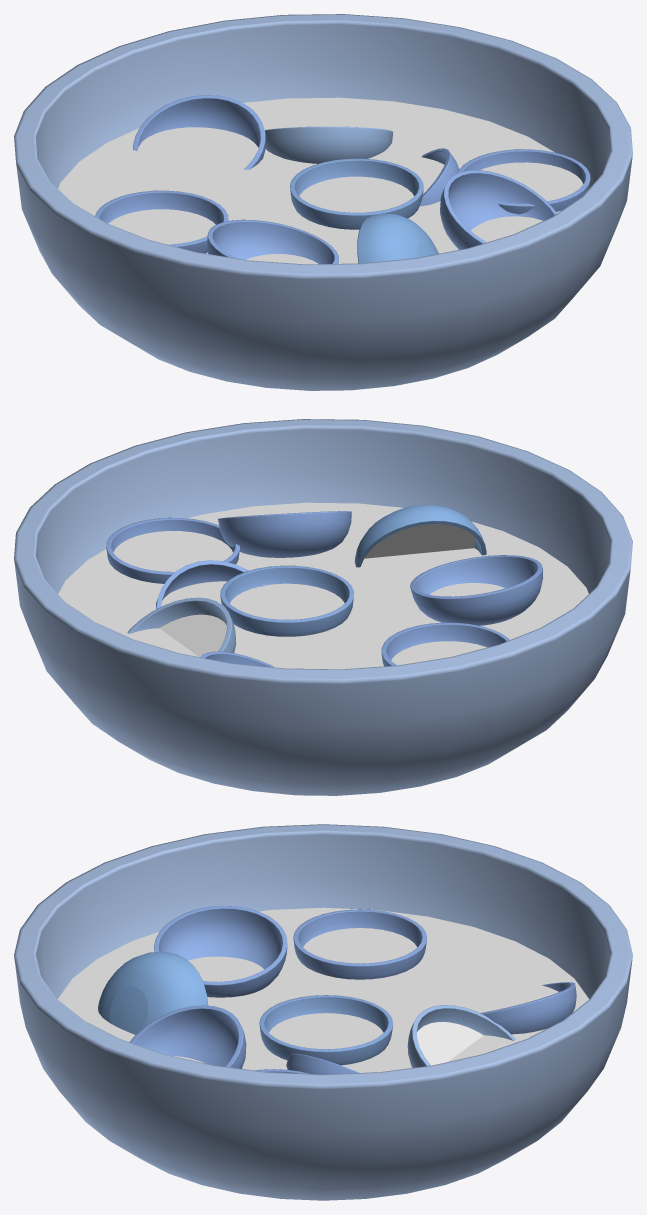
The model's file is bowlprefab.fbx.
The picture shows the model from 3 angles, top to bottom: view 1: azimuth 30°, elevation 25°; view 2: azimuth 150°, elevation 25°; view 3: azimuth 270°, elevation 25°; orthographic projection.
Parts seen in each view (by area): view 1: Sphere, Circle, Sphere.006, Sphere.004, Sphere.008, Sphere.005, Sphere.001, Circle.004, Sphere.002, Sphere.007, Sphere.003, Sphere.009; view 2: Sphere, Circle, Sphere.005, Sphere.006, Sphere.004, Circle.004, Sphere.003, Sphere.002, Sphere.007, Circle.002, Sphere.001, Circle.001 (+2 smaller); view 3: Sphere, Circle, Sphere.005, Sphere.002, Sphere.006, Sphere.007, Sphere.004, Circle.004, Sphere.008, Sphere.001, Circle.001, Sphere.009.
Boxes of the visible parts, box(x1,y1,x2,y2) form: Sphere: box(14, 14, 632, 390); Circle: box(58, 97, 583, 264); Sphere.006: box(440, 170, 556, 249); Sphere.004: box(290, 158, 423, 229); Sphere.008: box(133, 95, 265, 169); Sphere.005: box(207, 219, 338, 263); Sphere.001: box(265, 126, 393, 163); Circle.004: box(299, 176, 413, 212); Sphere.002: box(357, 213, 438, 263); Sphere.007: box(95, 190, 228, 253); Sphere.003: box(458, 149, 590, 214); Sphere.009: box(419, 148, 459, 206); Sphere: box(14, 419, 632, 795); Circle: box(58, 502, 588, 669); Sphere.005: box(410, 555, 543, 625); Sphere.006: box(218, 511, 351, 557); Sphere.004: box(220, 565, 354, 636); Circle.004: box(230, 583, 344, 619); Sphere.003: box(106, 517, 239, 583); Sphere.002: box(354, 504, 486, 567); Sphere.007: box(381, 622, 509, 666); Circle.002: box(364, 524, 475, 558); Sphere.001: box(127, 597, 236, 652); Circle.001: box(159, 614, 226, 656); Sphere: box(14, 824, 632, 1200); Circle: box(57, 907, 589, 1072); Sphere.005: box(154, 905, 287, 997); Sphere.002: box(98, 951, 208, 1034); Sphere.006: box(129, 1005, 246, 1068); Sphere.007: box(293, 909, 426, 979); Sphere.004: box(259, 995, 393, 1065); Circle.004: box(269, 1013, 383, 1049); Sphere.008: box(480, 982, 576, 1034); Sphere.001: box(407, 1005, 515, 1067); Circle.001: box(417, 1022, 483, 1065); Sphere.009: box(286, 1053, 359, 1074).
Size of the model in its own units: 200 by 69.73 by 200.
